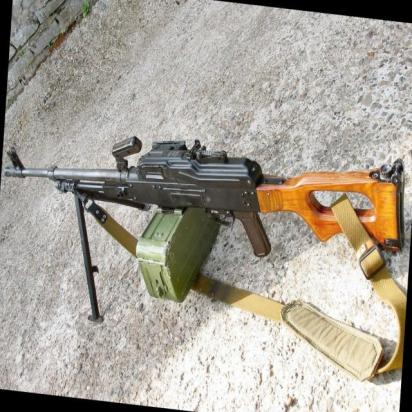Gun: (0, 119, 411, 276)
